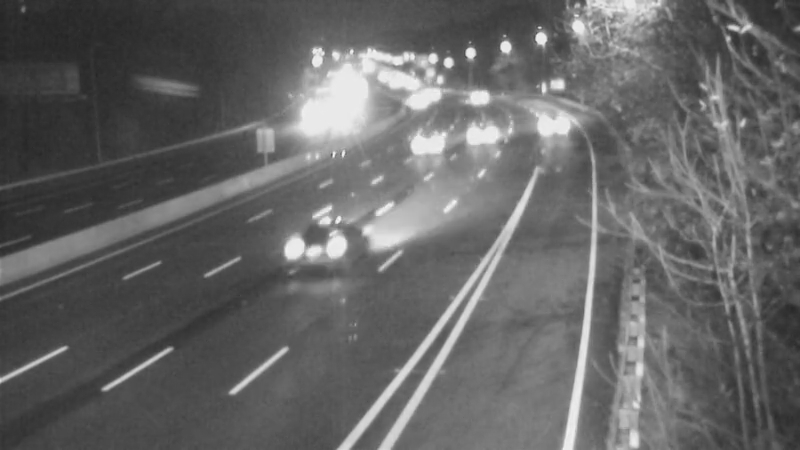vehicle: (292, 209, 372, 289), (447, 71, 497, 121), (390, 77, 440, 127), (528, 99, 578, 149), (466, 104, 516, 154), (396, 120, 446, 170), (289, 96, 339, 146), (320, 83, 370, 133)
